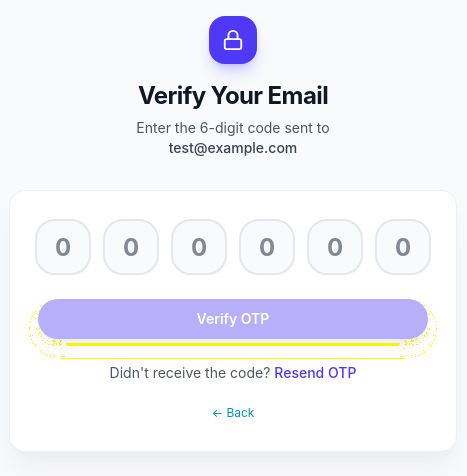
Scenario: OTPVerificationPage › OTP Input Validation › should only accept single digit per input
Type "12" into the 1st field with placeholder "0" at [63, 247], box [35,219,91,275]
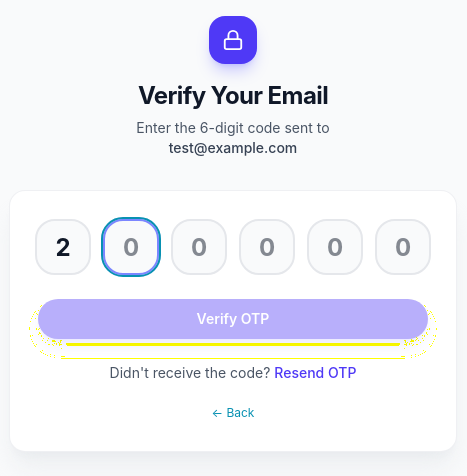
Check: the 1st field holds "2", box [35,219,91,275]
